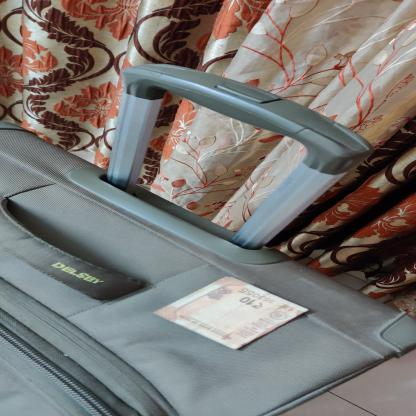New10Front: (151, 276, 310, 350)
